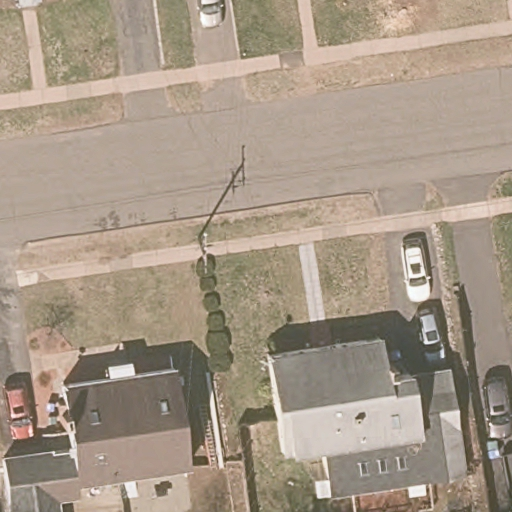DT: (196, 231, 212, 274)
